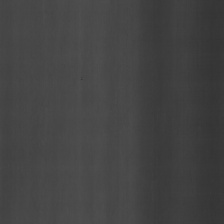inclusion: (79, 72, 83, 82)
